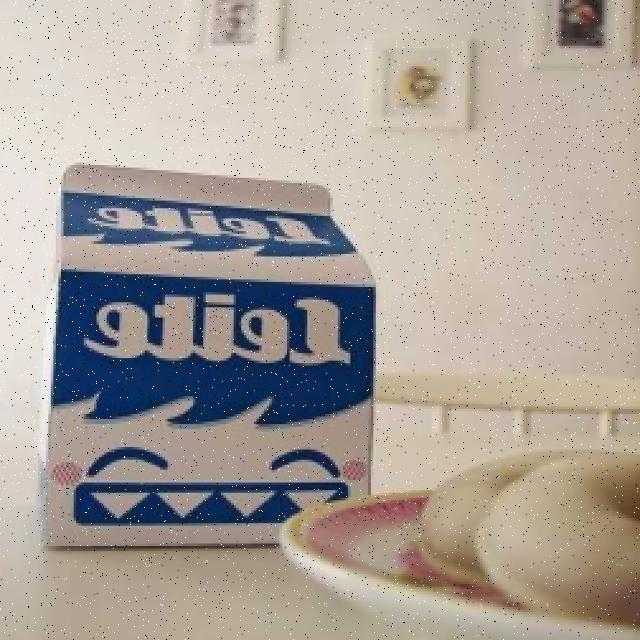box: (5, 178, 386, 569)
